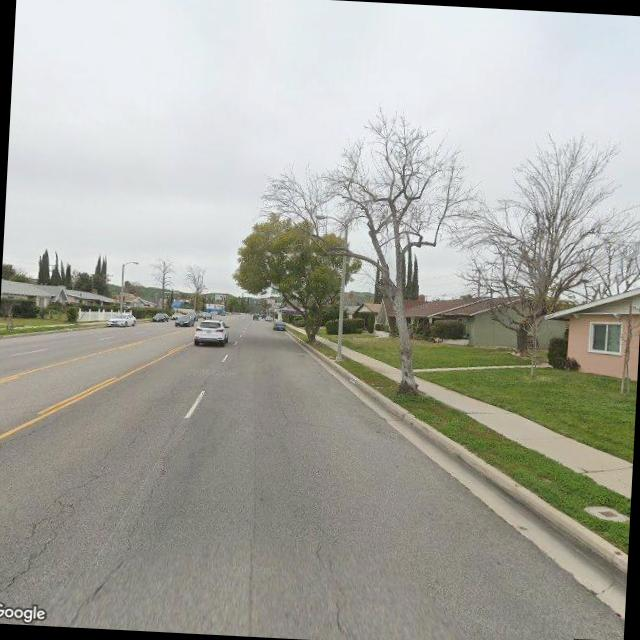pothole: (0, 376, 160, 601), (69, 430, 190, 630), (291, 519, 356, 628)
